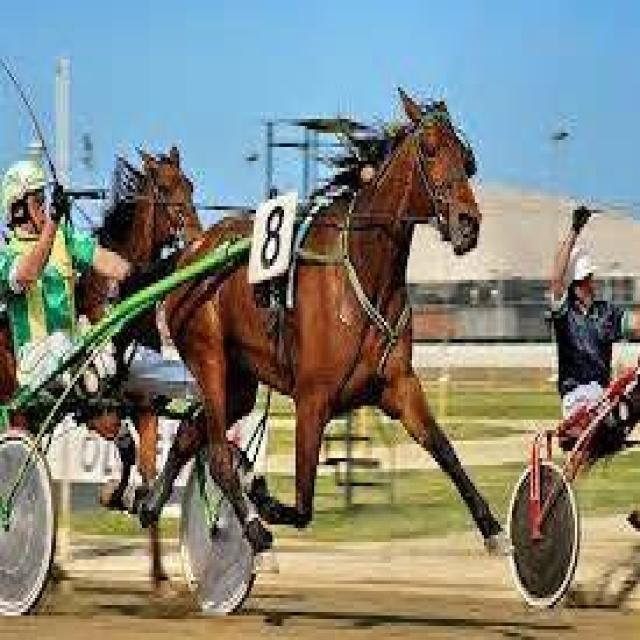animal: (137, 84, 505, 584)
